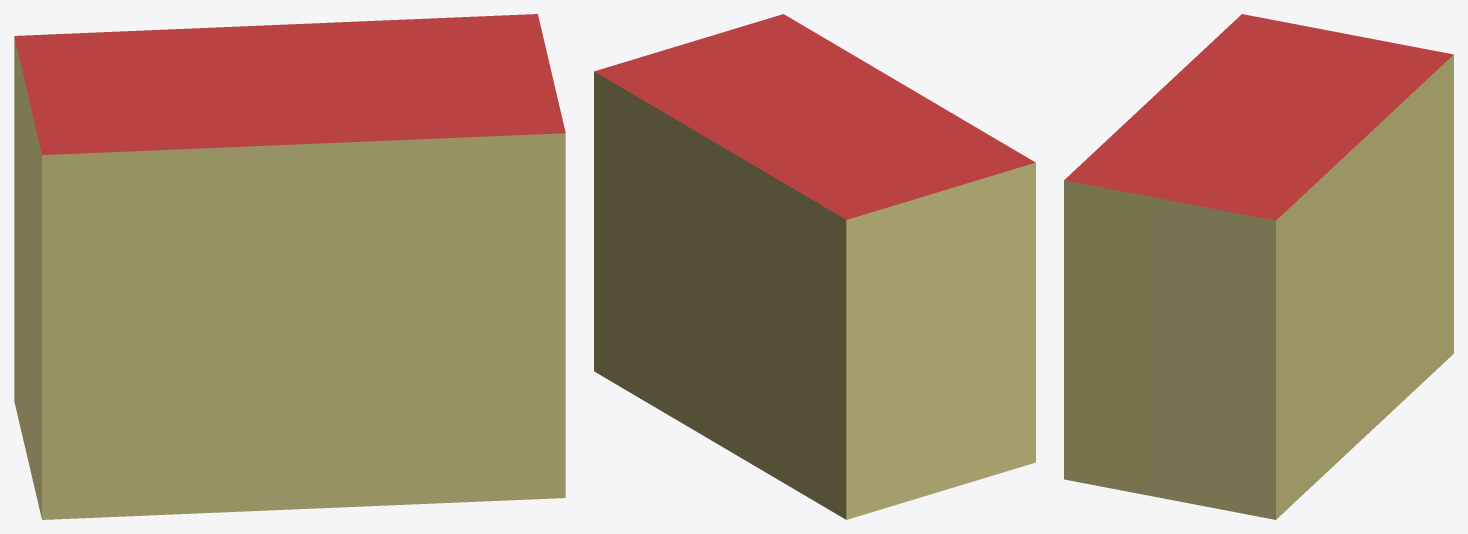
3 views of the same model, side by side, from view 1: azimuth 30°, elevation 25°; view 2: azimuth 150°, elevation 25°; view 3: azimuth 270°, elevation 25° (orthographic). The views are drawn at different scales.
Parts seen in each view (by area): view 1: group_4, group_3; view 2: group_4, group_3; view 3: group_4, group_3.
Part boxes in pixels (x1,y1,x2,y2): group_4: (14, 37, 565, 519); group_3: (14, 14, 565, 154); group_4: (594, 71, 1035, 519); group_3: (594, 14, 1035, 219); group_4: (1064, 55, 1453, 519); group_3: (1064, 14, 1453, 220).
Size of the model in its own units: 7.97 by 6.35 by 5.38.
